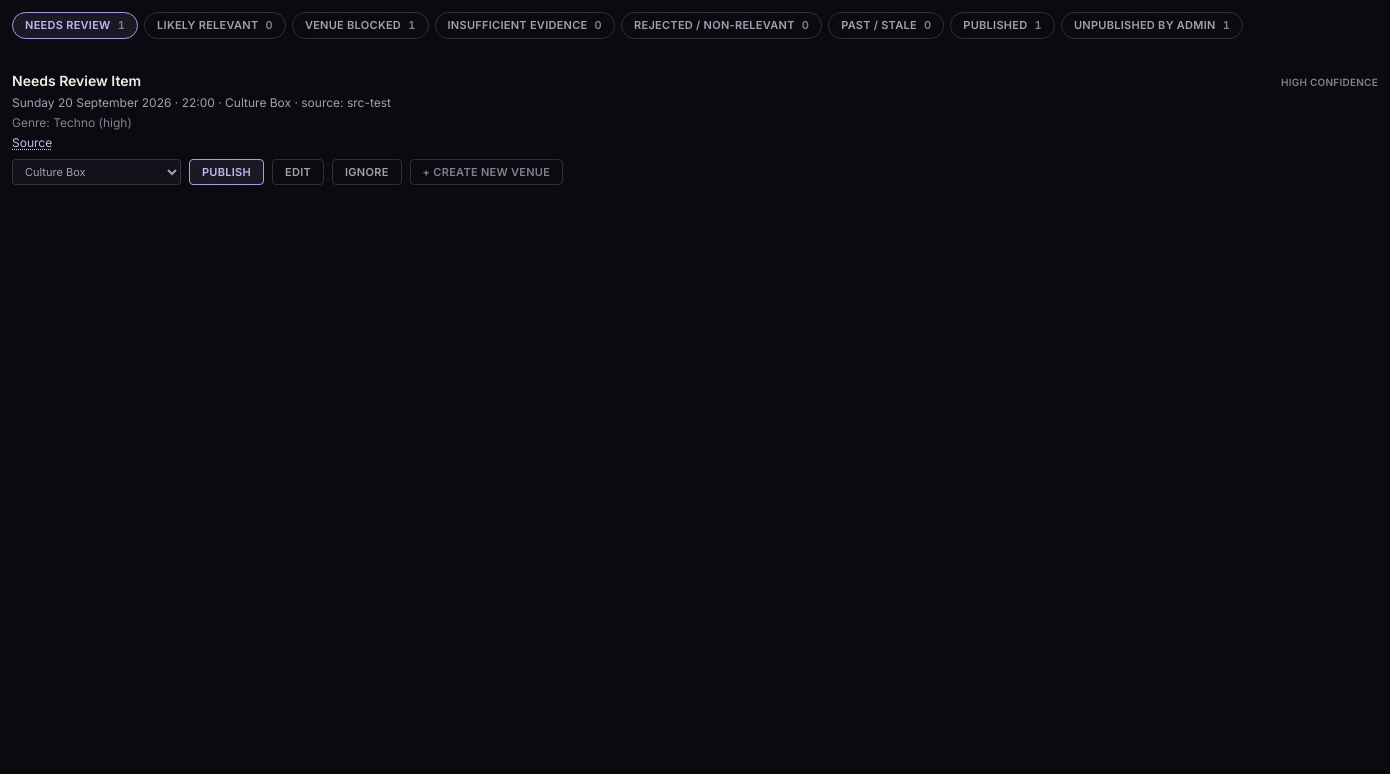
Test: AdminQueueTabs › Discovery two-genre support (2026-10-06): a Venue Blocked row's secondary genre field pre-fills from its existing value
Click the tab "Venue blocked 1": (360, 25) [292, 12, 428, 38]
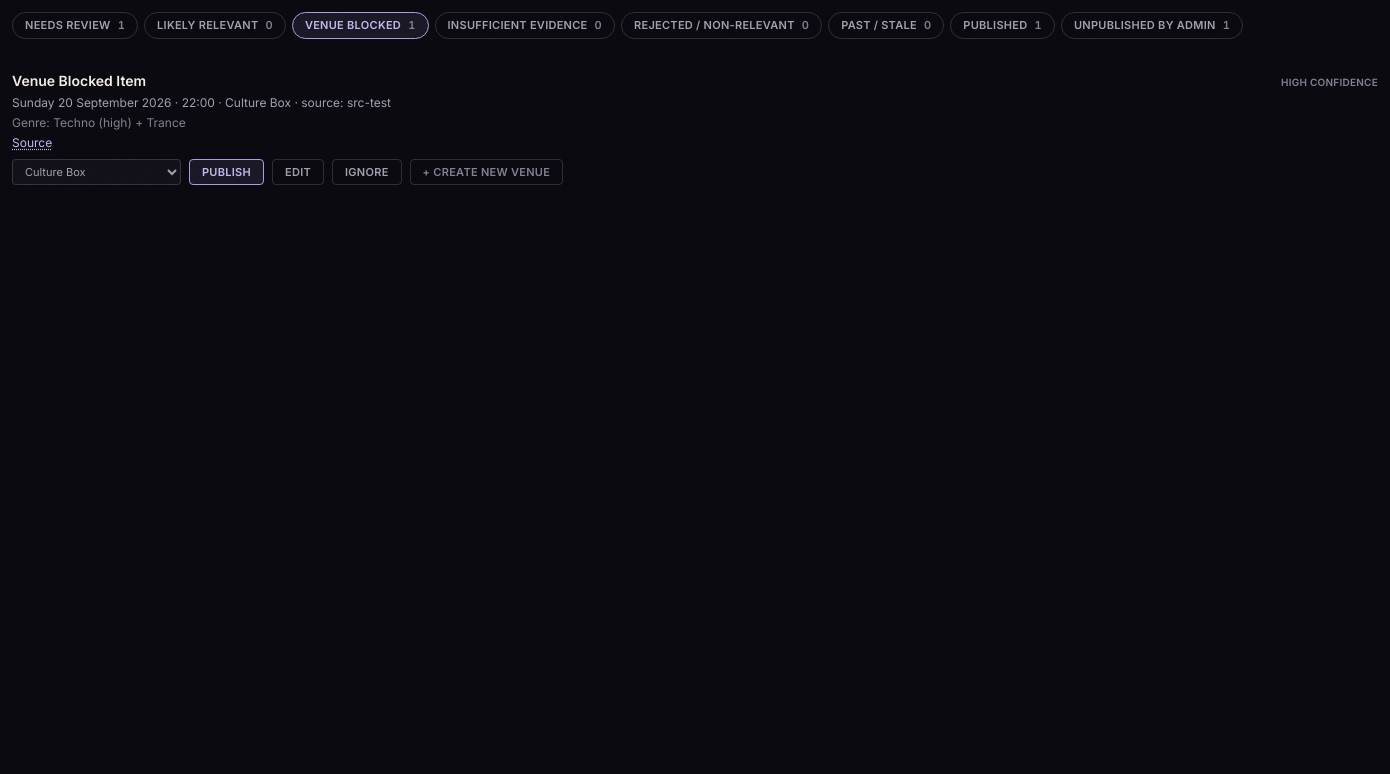
Click the button "Edit": (298, 172) [272, 158, 324, 185]
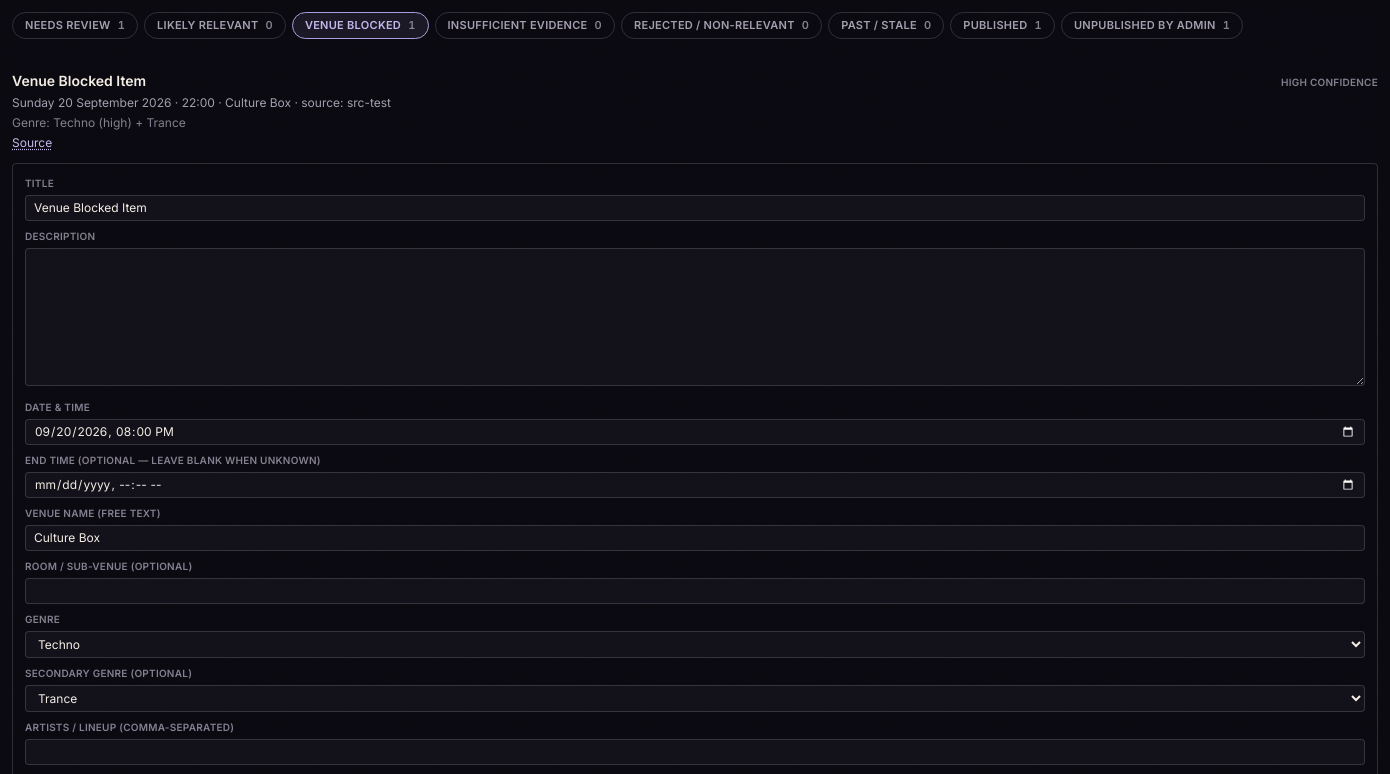
Expected: the dropdown labelled "Secondary genre (optional)" shows "Trance", [25, 684, 1365, 712]
